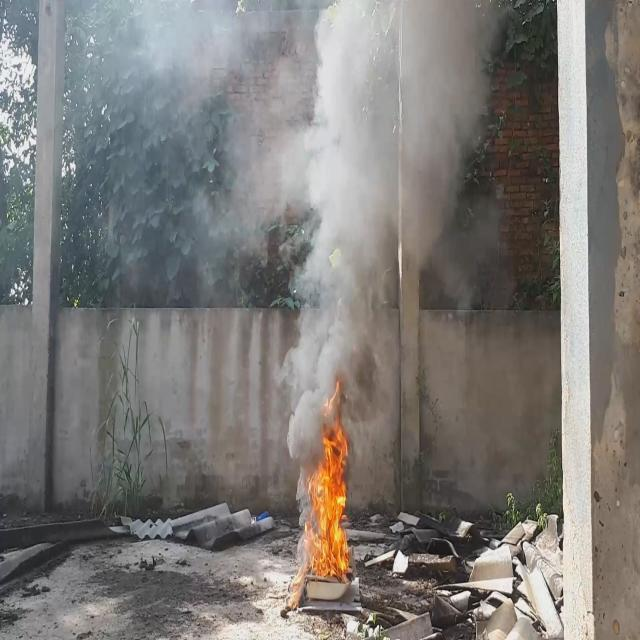Fire: (303, 377, 357, 582)
Smoke: (79, 0, 502, 457)
